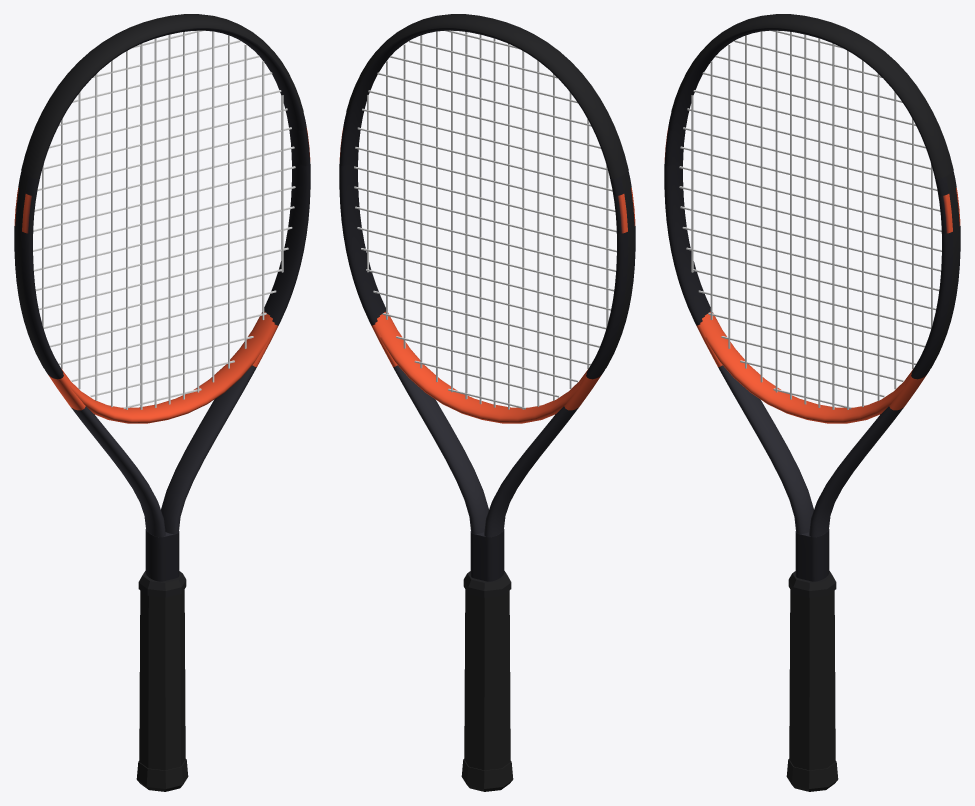
Rendered from wilson-clash-108-v3-2025.glb.
The picture shows the model from 3 angles, left to right: view 1: azimuth 30°, elevation 25°; view 2: azimuth 150°, elevation 25°; view 3: azimuth 330°, elevation 25°; orthographic projection.
Visible parts, largest first — view 1: frame, strings_mains, strings_crosses, grip, bumper, grommets, butt_cap, collar; view 2: frame, strings_mains, strings_crosses, grip, bumper, grommets, butt_cap, collar; view 3: frame, strings_mains, strings_crosses, grip, bumper, grommets, butt_cap, collar.
Part boxes in pixels (x1=…): frame: x1=14, y1=28, x2=310, y2=581; strings_mains: x1=42, y1=30, x2=283, y2=409; strings_crosses: x1=33, y1=30, x2=295, y2=408; grip: x1=139, y1=589, x2=185, y2=770; bumper: x1=21, y1=14, x2=303, y2=179; grommets: x1=15, y1=172, x2=49, y2=371; butt_cap: x1=136, y1=759, x2=188, y2=791; collar: x1=138, y1=571, x2=186, y2=597; frame: x1=339, y1=28, x2=635, y2=581; strings_mains: x1=367, y1=30, x2=608, y2=409; strings_crosses: x1=354, y1=30, x2=616, y2=409; grip: x1=464, y1=589, x2=510, y2=770; bumper: x1=346, y1=14, x2=628, y2=179; grommets: x1=600, y1=172, x2=634, y2=371; butt_cap: x1=461, y1=759, x2=513, y2=791; collar: x1=463, y1=571, x2=511, y2=597; frame: x1=664, y1=28, x2=960, y2=581; strings_mains: x1=691, y1=30, x2=932, y2=409; strings_crosses: x1=679, y1=30, x2=941, y2=408; grip: x1=789, y1=589, x2=835, y2=770; bumper: x1=671, y1=14, x2=953, y2=179; grommets: x1=925, y1=172, x2=959, y2=371; butt_cap: x1=786, y1=759, x2=838, y2=791; collar: x1=788, y1=571, x2=836, y2=597.
Size of the model in its own units: 0.2755 by 0.6924 by 0.0396.
